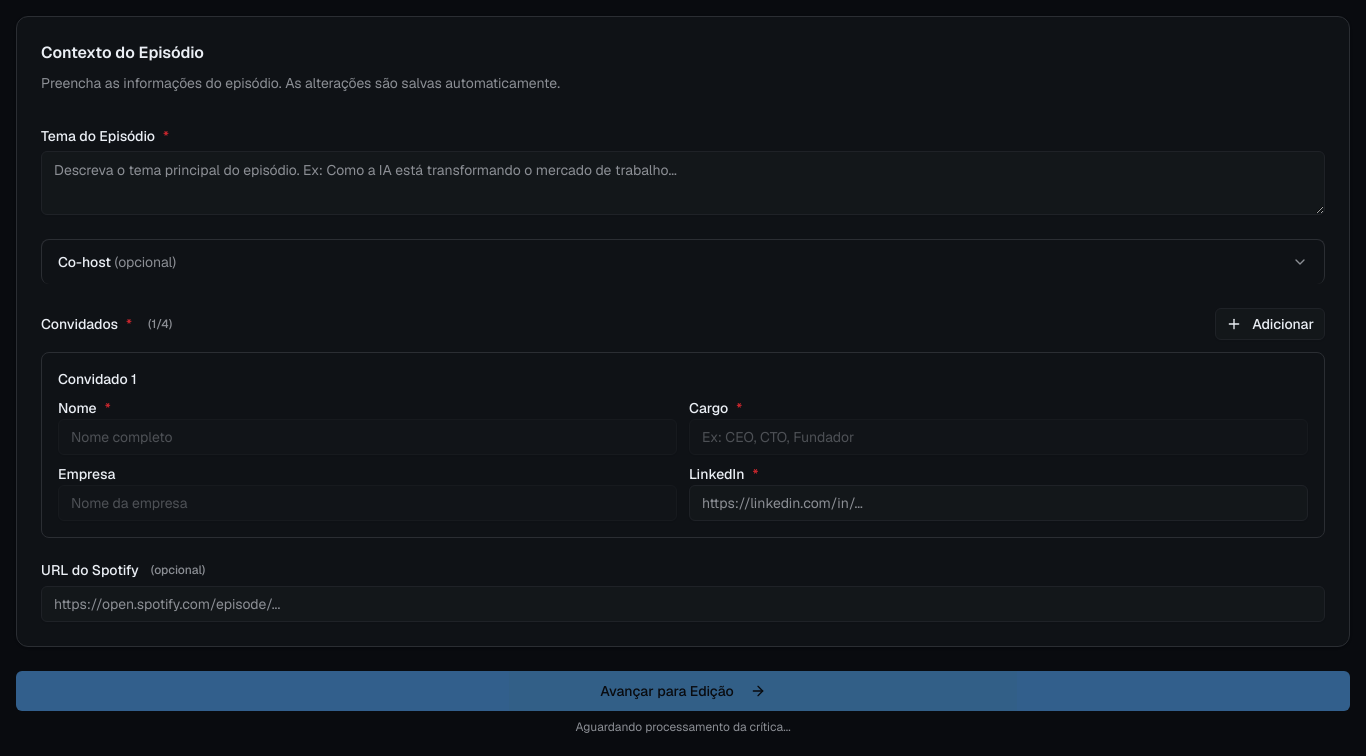
Test: Phase1Critique › Scrape-driven field unlock (Story 24.7) › renders avatar inline and highlights missing fields when scrape is partial
Replace the text in the text box labelled "Tema do Episódio *" with "tema qualquer": [683, 183] box [41,151,1325,215]
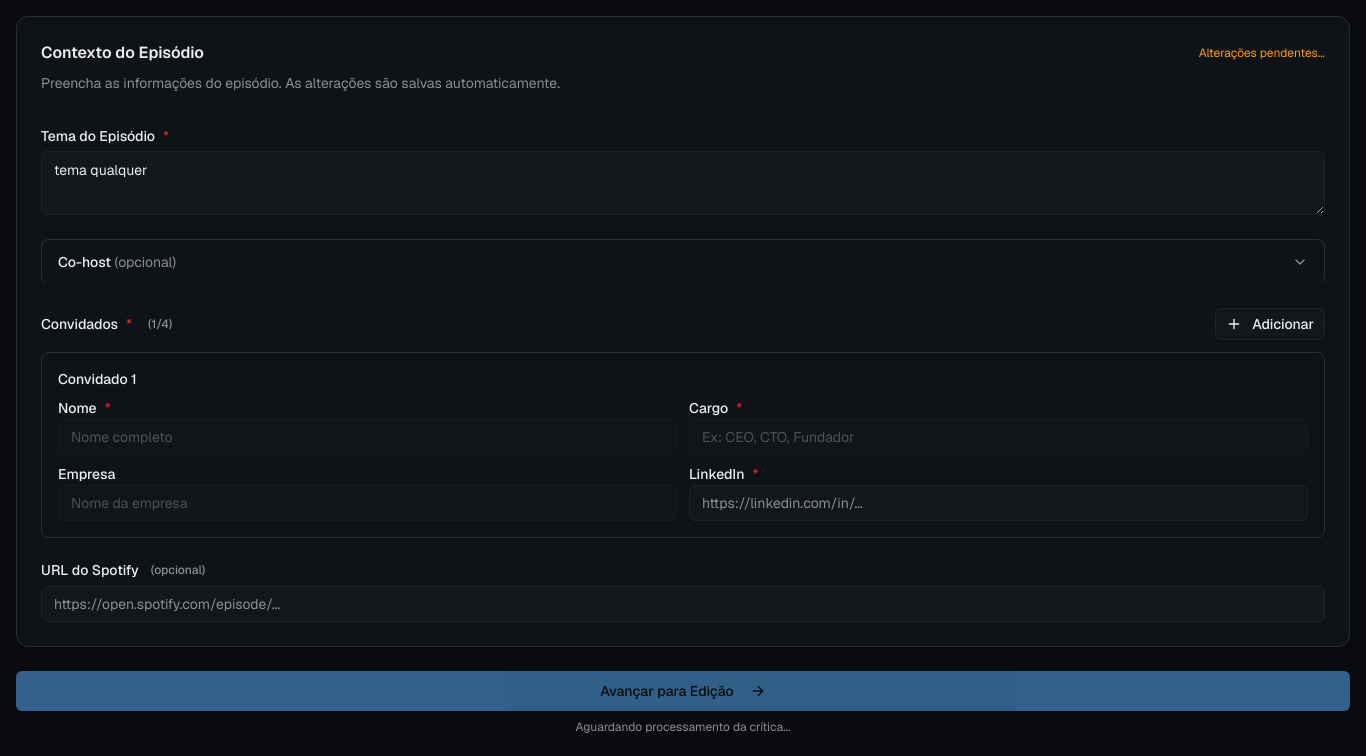
In the field labelled "LinkedIn *": [998, 503] box [689,485,1308,521], type "https://www.linkedin.com/in/parcial"
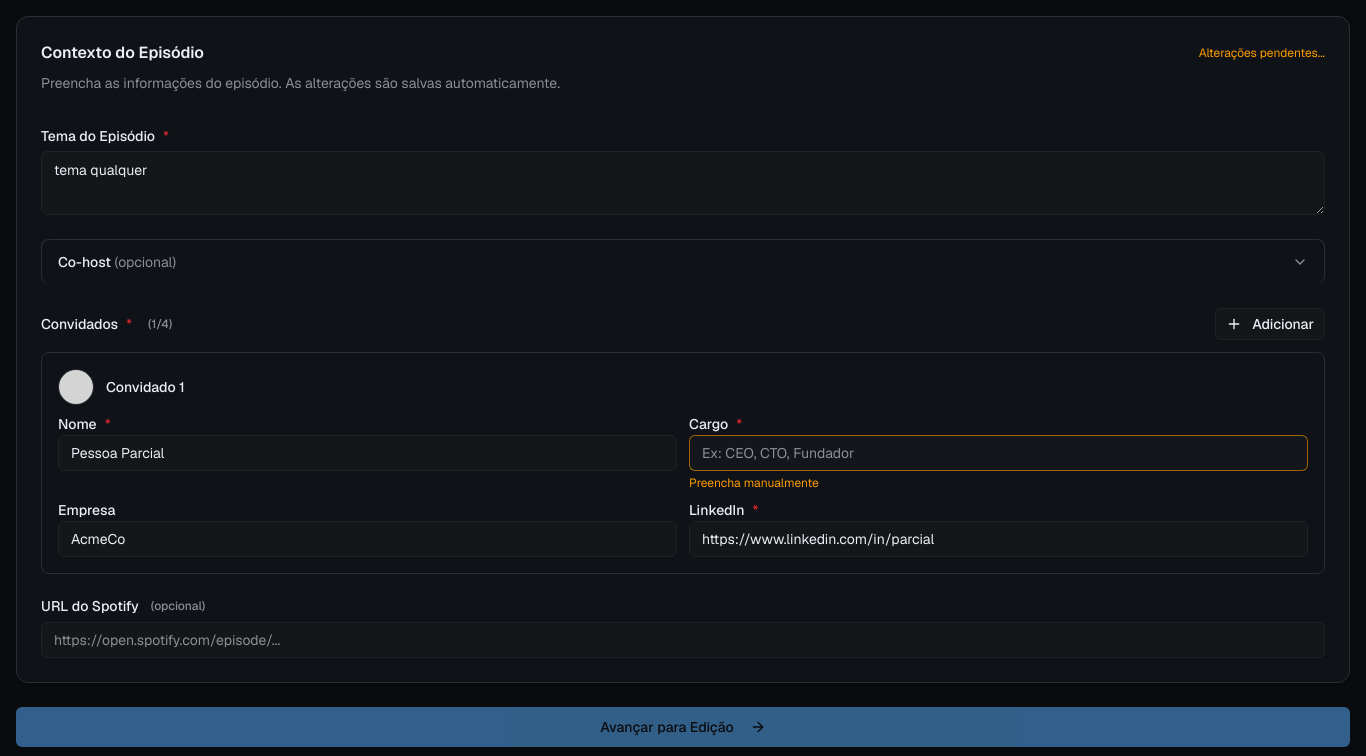
Expected: the text "Preencha manualmente" is shown once, [689,475,819,491]
